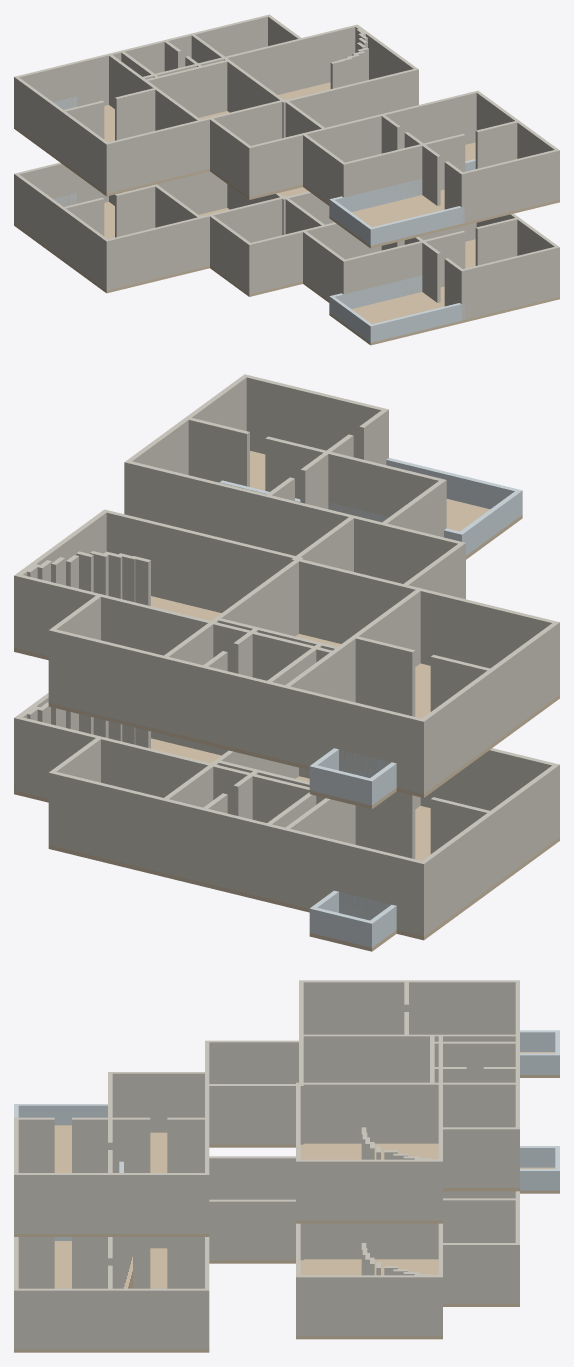
File: sky-villa.glb
The picture shows the model from 3 angles, top to bottom: view 1: azimuth 30°, elevation 25°; view 2: azimuth 150°, elevation 25°; view 3: azimuth 270°, elevation 25°; orthographic projection. The views are drawn at different scales.
Visible parts, largest first — view 1: SkyUpper, SkyLower; view 2: SkyUpper, SkyLower; view 3: SkyUpper, SkyLower.
Boxes of the visible parts, bbox=[...] form: SkyUpper: bbox=[14, 14, 559, 248]; SkyLower: bbox=[14, 162, 559, 345]; SkyUpper: bbox=[14, 374, 559, 809]; SkyLower: bbox=[14, 693, 559, 951]; SkyUpper: bbox=[14, 980, 559, 1236]; SkyLower: bbox=[14, 1146, 559, 1352].
Size of the model in its own units: 20.2 by 8.6 by 23.95.
